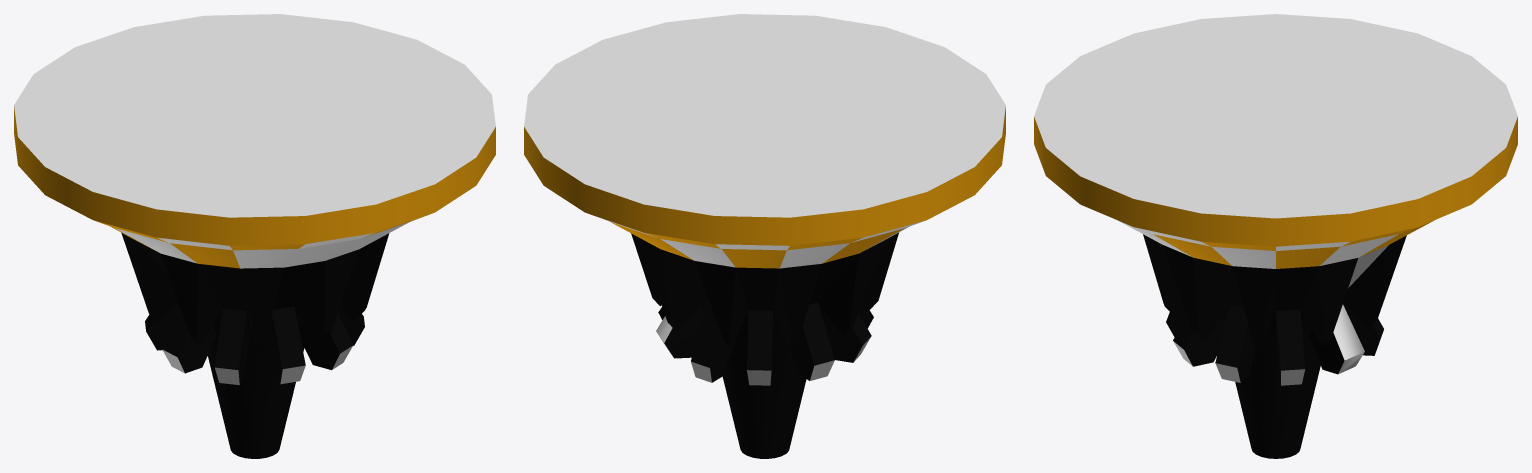
Rendered from AirPlatform.fbx.
3 views of the same model, side by side, from view 1: azimuth 30°, elevation 25°; view 2: azimuth 150°, elevation 25°; view 3: azimuth 270°, elevation 25° (orthographic).
Parts seen in each view (by area): view 1: pCylinder1; view 2: pCylinder1; view 3: pCylinder1.
Part boxes in pixels (bbox=[...]): pCylinder1: bbox=[14, 14, 495, 458]; pCylinder1: bbox=[524, 14, 1005, 458]; pCylinder1: bbox=[1034, 14, 1517, 458].
Size of the model in its own units: 10.41 by 7.89 by 10.41.
